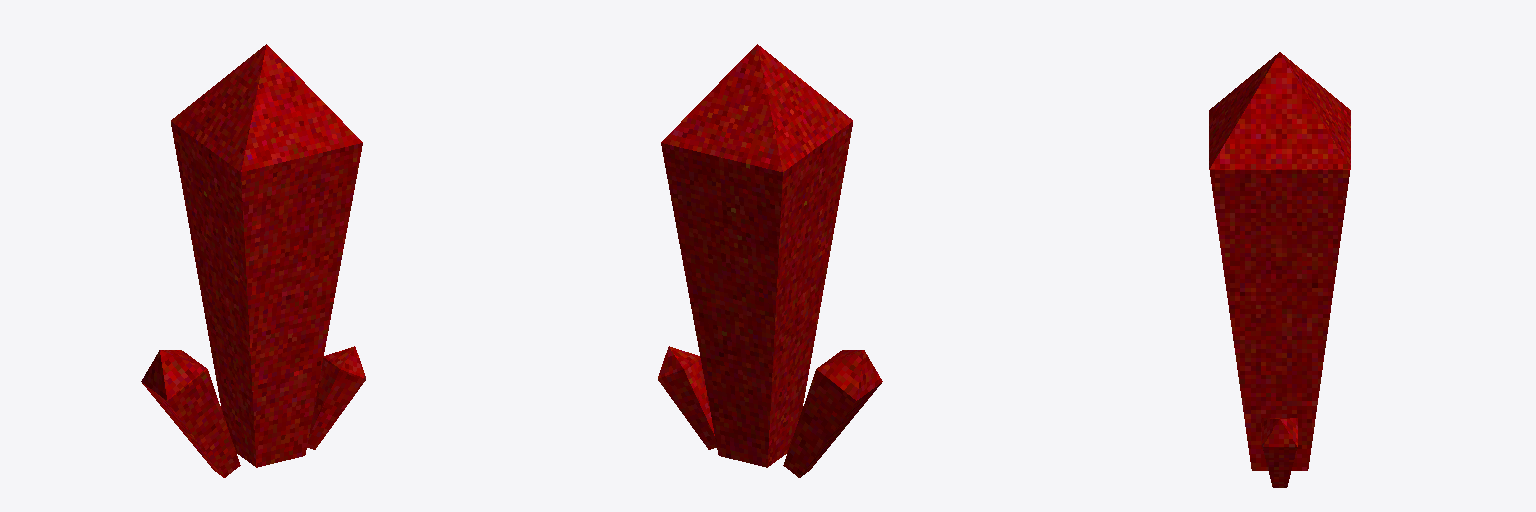
3 views of the same model, side by side, from view 1: azimuth 30°, elevation 25°; view 2: azimuth 150°, elevation 25°; view 3: azimuth 270°, elevation 25° (orthographic).
Parts seen in each view (by area): view 1: RoadKillOut; view 2: RoadKillOut; view 3: RoadKillOut.
Boxes of the visible parts, box(x1,y1,x2,y2) form: RoadKillOut: box(141, 44, 365, 477); RoadKillOut: box(658, 44, 882, 477); RoadKillOut: box(1209, 52, 1350, 487).
Size of the model in its own units: 2.87 by 5.64 by 1.72.
1 materials, 1 textured.